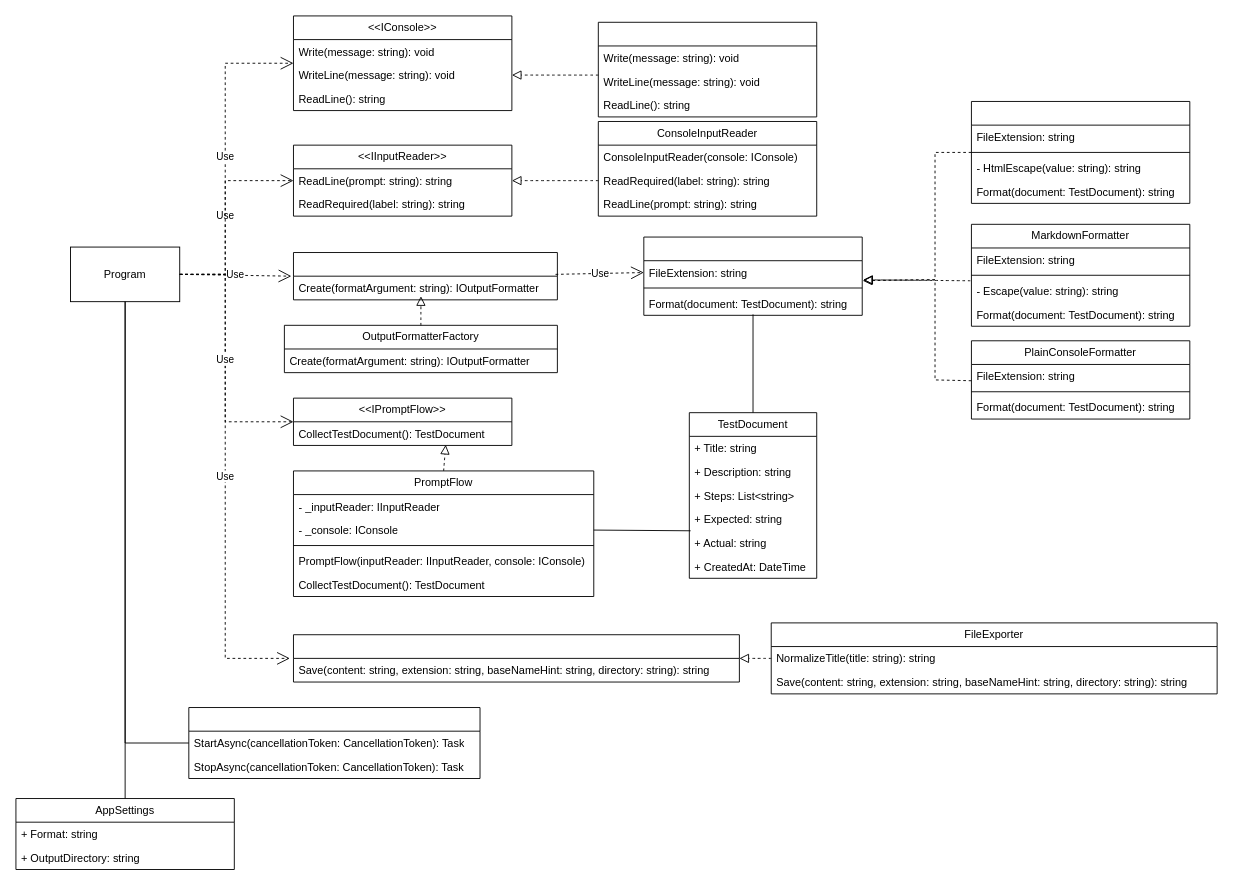
This 1233x888 diagram has some shape labels left out. Here are the shapes that lost their labels. From the top down, the box of each, then its label:
(597, 21, 817, 117): SystemConsole
(971, 101, 1190, 203): HtmlFormatter
(293, 252, 557, 300): <<IOutputFormatterFactory>>
(643, 236, 862, 315): << IOutputFormatter >>
(293, 634, 739, 682): <<IFileExporter>>
(188, 707, 480, 779): AppHostedService
